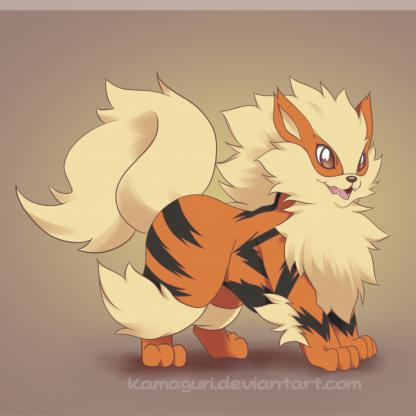Arcanine: (46, 50, 405, 380)
